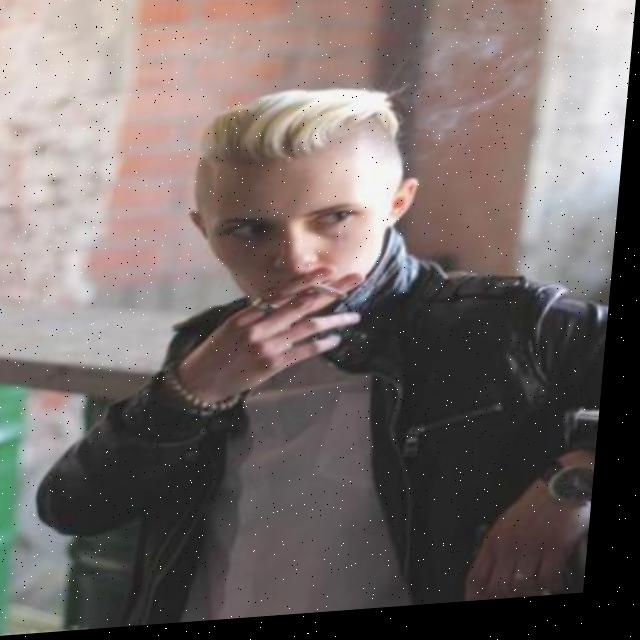cigarette: (315, 288, 357, 308)
